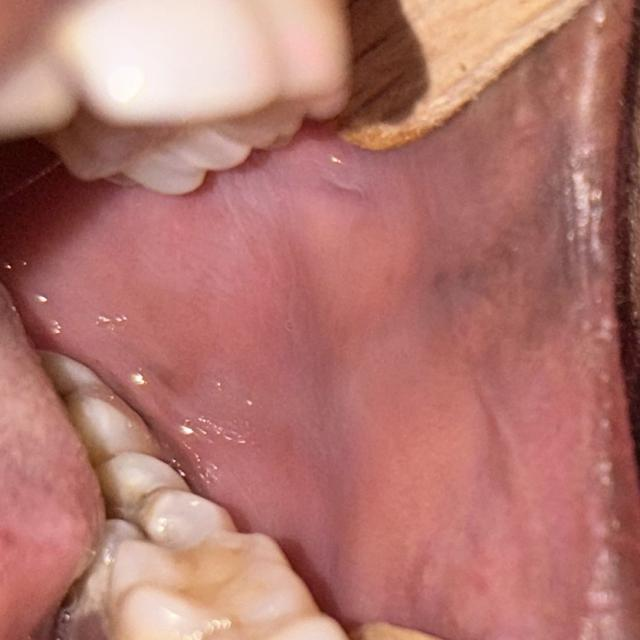leukoplakia-like-detection: (204, 25, 607, 432)
processing_area: (11, 1, 622, 639)
